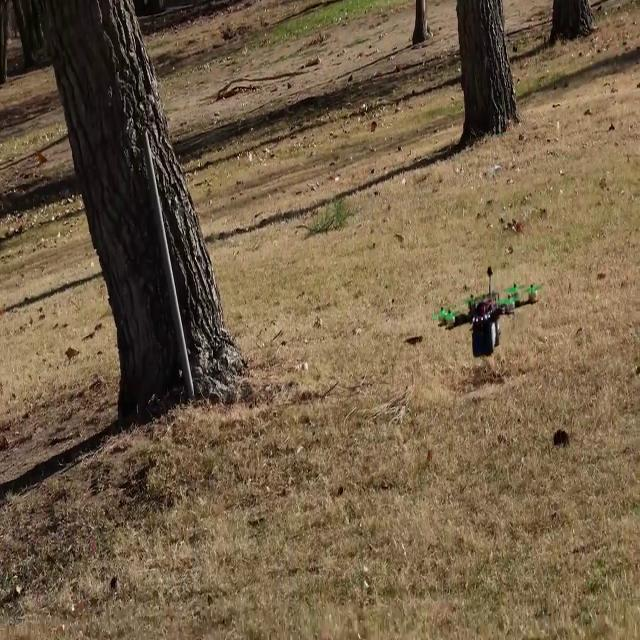drone: (428, 272, 549, 367)
